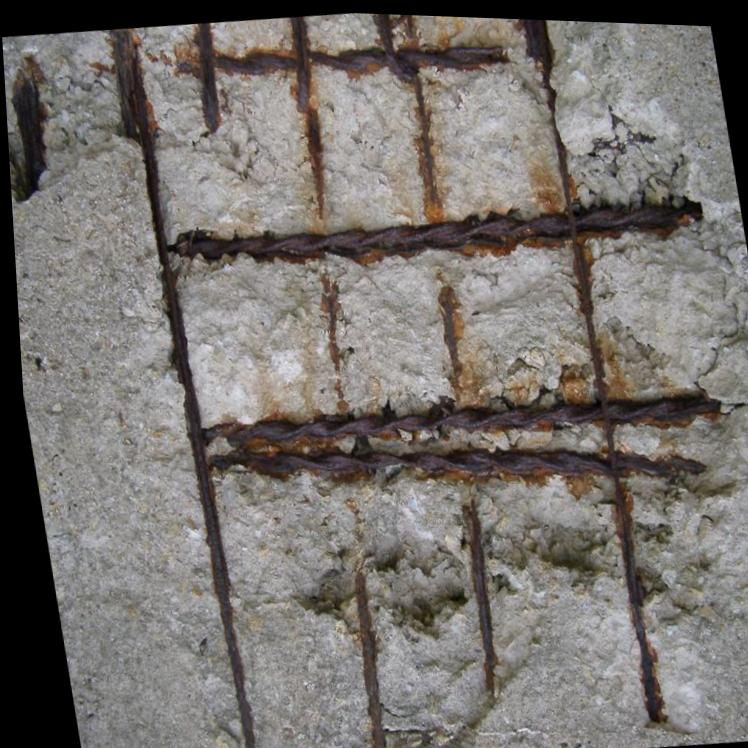damage: (2, 10, 748, 748)
